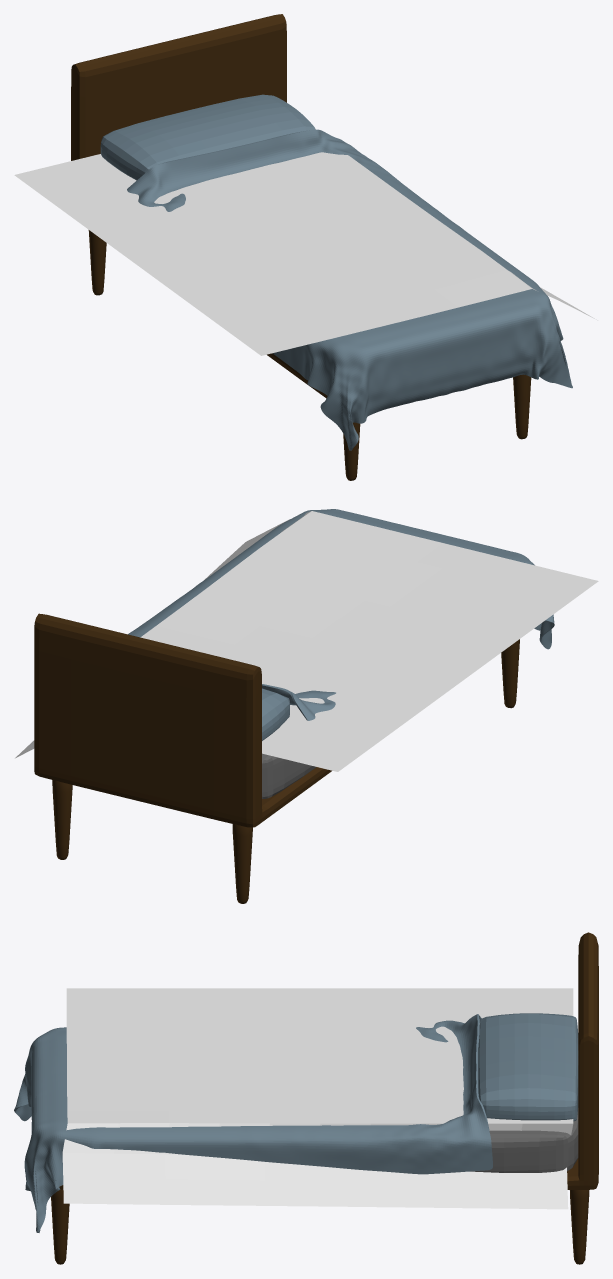
The model's file is Bed.fbx.
3 views of the same model, one above another, from view 1: azimuth 30°, elevation 25°; view 2: azimuth 150°, elevation 25°; view 3: azimuth 270°, elevation 25° (orthographic). The views are drawn at different scales.
Visible parts, largest first — view 1: Plane.001, Plane, Cube, Cube.002, Cube.001; view 2: Plane.001, Cube, Plane, Cube.001, Cube.004, Cube.002; view 3: Plane.001, Plane, Cube.002, Cube, Cube.004, Cube.001.
Part boxes in pixels (box(x1,y1,x2,y2)): Plane.001: box(14, 152, 597, 355); Plane: box(127, 129, 572, 450); Cube: box(71, 14, 327, 398); Cube.002: box(100, 94, 315, 180); Cube.001: box(88, 230, 531, 480); Plane.001: box(15, 511, 598, 771); Cube: box(34, 613, 331, 827); Plane: box(128, 509, 554, 720); Cube.001: box(52, 639, 519, 903); Cube.004: box(262, 753, 316, 798); Cube.002: box(262, 688, 289, 740); Plane.001: box(62, 988, 573, 1209); Plane: box(14, 1014, 492, 1232); Cube.002: box(478, 1013, 578, 1121); Cube: box(59, 932, 598, 1189); Cube.004: box(470, 1108, 578, 1172); Cube.001: box(51, 1189, 589, 1264).
Size of the model in its own units: 263 by 173 by 387.
